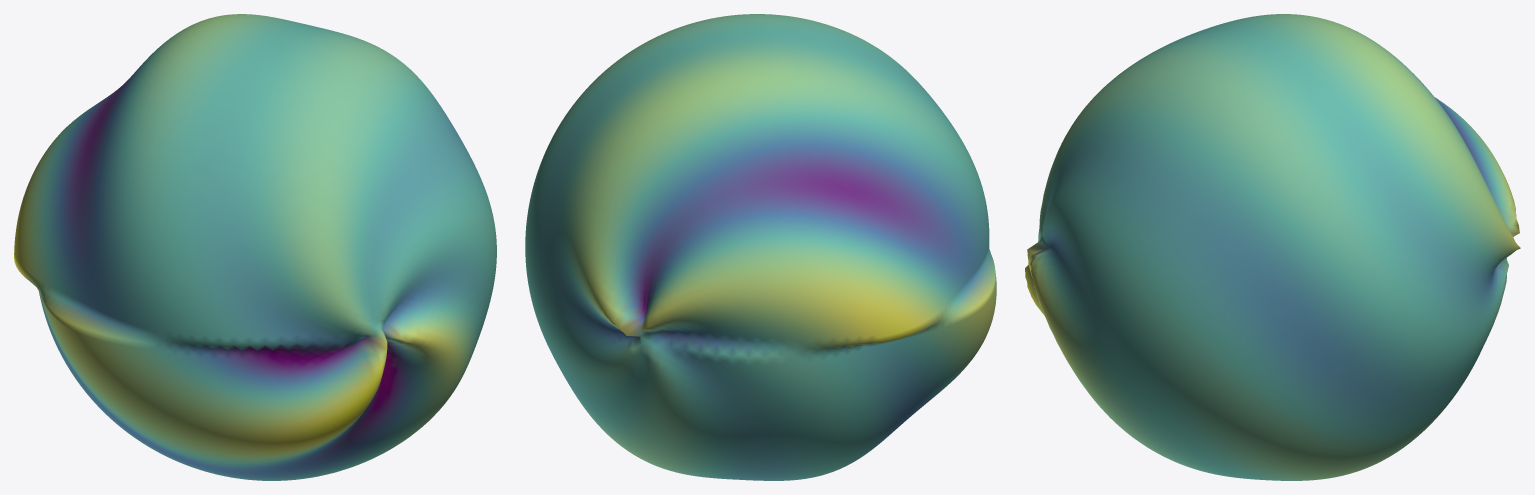
The model's file is sphere_frame_0002.glb.
The picture shows the model from 3 angles, left to right: view 1: azimuth 30°, elevation 25°; view 2: azimuth 150°, elevation 25°; view 3: azimuth 270°, elevation 25°; orthographic projection.
Visible parts, largest first — view 1: world; view 2: world; view 3: world.
Boxes of the visible parts, bbox=[...] form: world: bbox=[14, 14, 496, 480]; world: bbox=[525, 14, 996, 480]; world: bbox=[1025, 14, 1520, 480].
Bounding box in the file's own units: 2.2 × 2.16 × 2.3.
